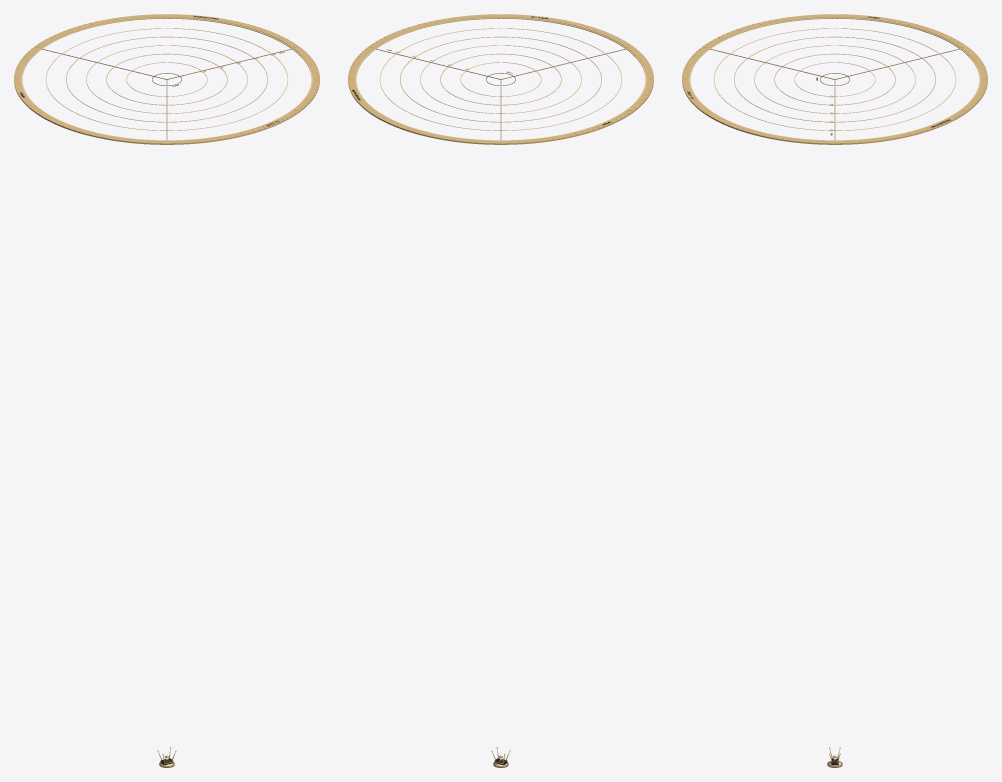
File: galaxy.glb
3 views of the same model, side by side, from view 1: azimuth 30°, elevation 25°; view 2: azimuth 150°, elevation 25°; view 3: azimuth 270°, elevation 25° (orthographic).
Parts seen in each view (by area): view 1: Rete; view 2: Rete; view 3: Rete.
Boxes of the visible parts, <box> form: Rete: <box>14,14,319,144</box>; Rete: <box>348,14,653,144</box>; Rete: <box>682,14,987,144</box>.
Size of the model in its own units: 24.3 by 60.13 by 24.3.
